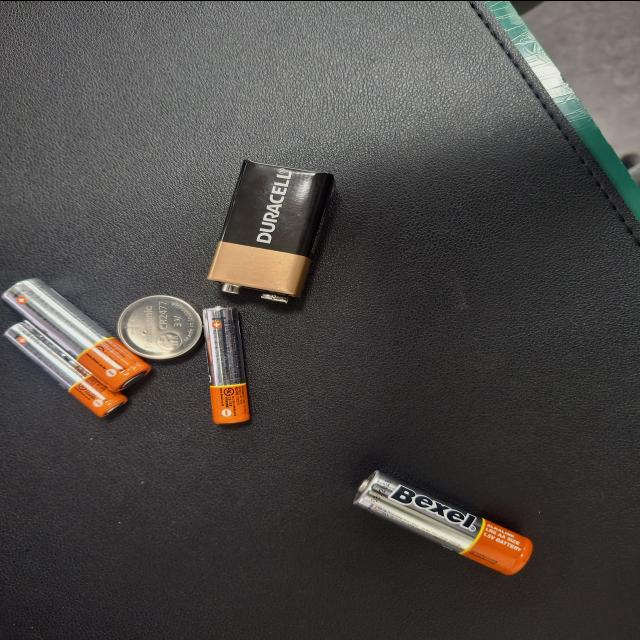9V: (212, 388, 400, 484)
AA: (370, 526, 521, 638)
AAA: (426, 544, 556, 636), (406, 454, 566, 489)
COIN: (392, 487, 478, 553)
